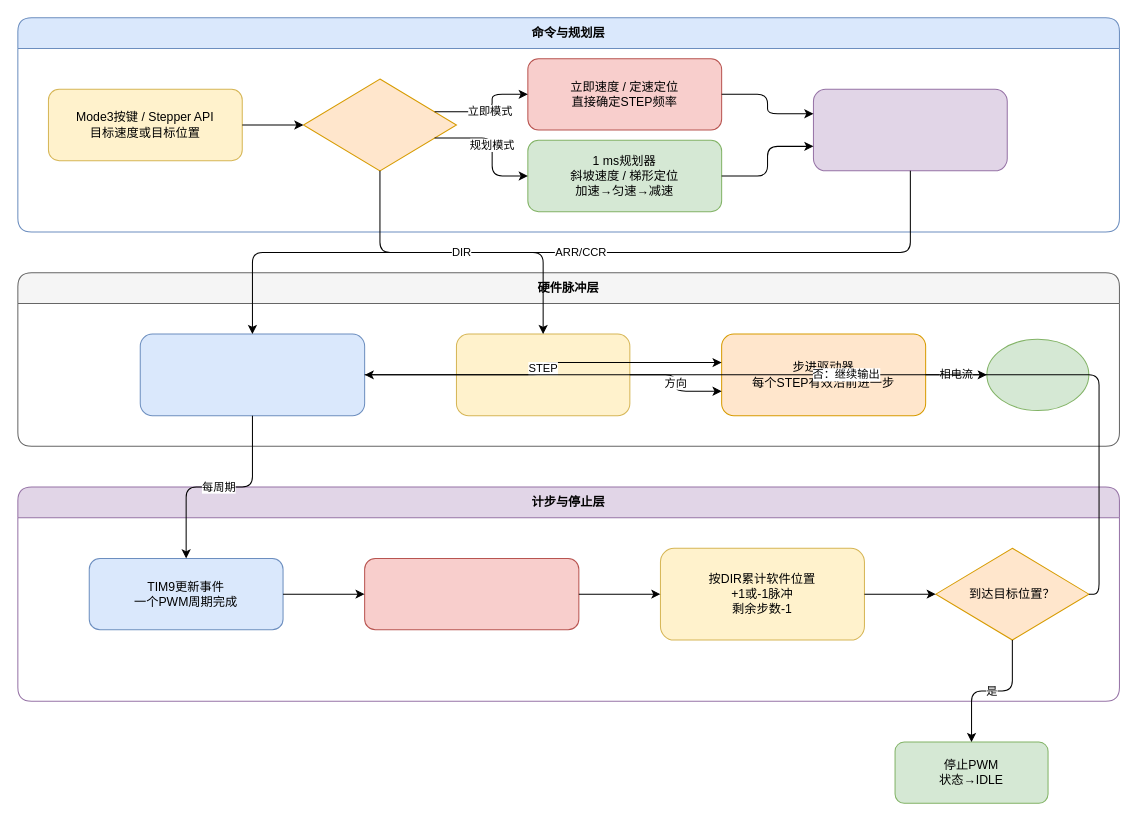
This 1137x821 diagram has some shape labels left out. Each missing label, with the centre of its shape:
"PE6 / DIR 决定正负方向" belongs at point (542, 374).
"TIM9_CH1 / PE5 硬件持续输出50% PWM 频率=步进速度" belongs at point (252, 374).
"优先级0中断 Stepper_PulseIRQHandler" belongs at point (471, 593).
"控制模式" belongs at point (379, 124).
"步进电机" belongs at point (1037, 374).
"频率换算 ARR=1MHz/pps-1 CCR≈周期/2" belongs at point (909, 129).
